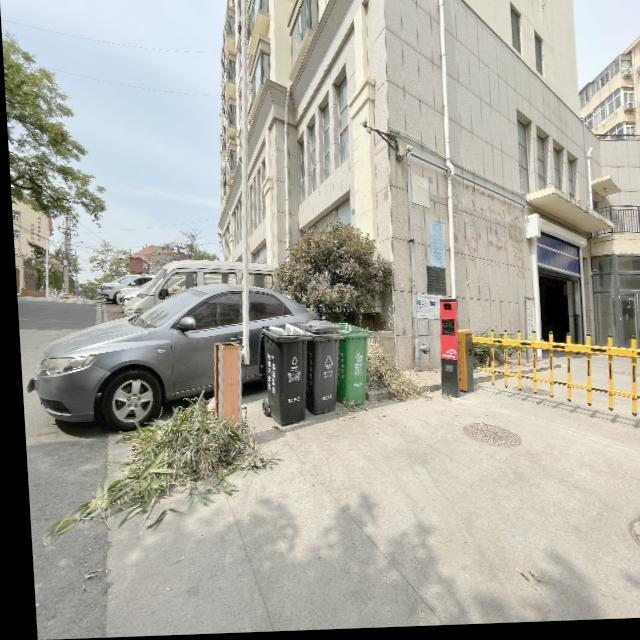garbage_bin: (328, 323, 372, 407)
overflow: (252, 323, 311, 429), (294, 322, 343, 417)
